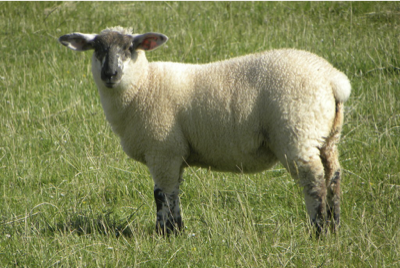koyun: (58, 25, 351, 235)
